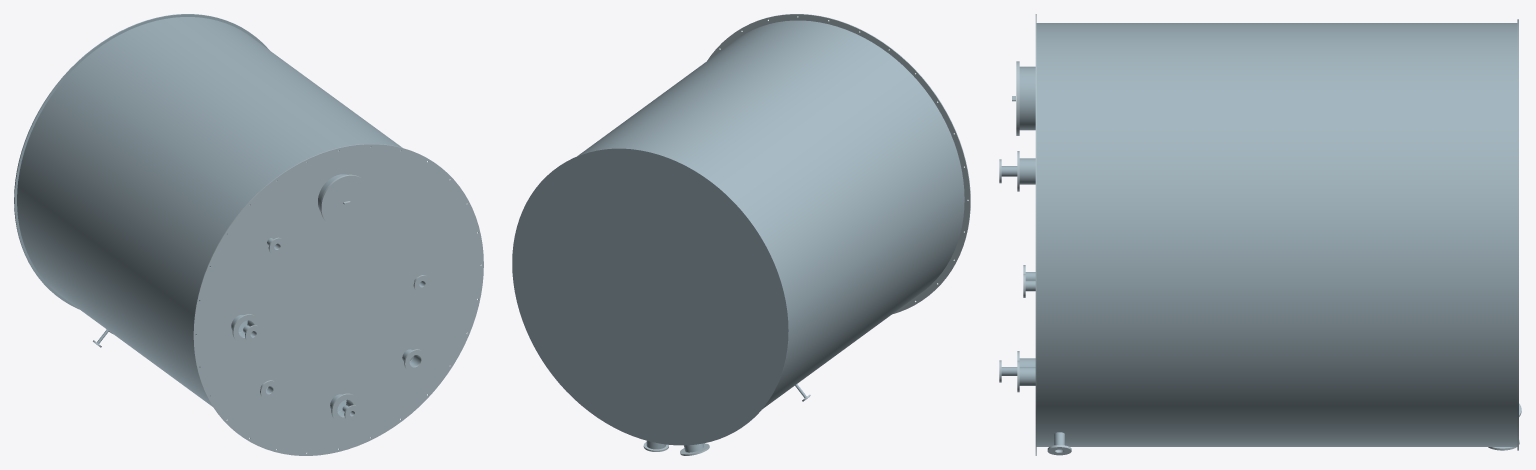
3 renders of one model, left to right at view 1: azimuth 30°, elevation 25°; view 2: azimuth 150°, elevation 25°; view 3: azimuth 270°, elevation 25°, orthographic. The views are drawn at different scales.
Visible parts, largest first — view 1: 本体_钢壳, 盖面_开孔盖板, 盖面_h盖, 本体_底板; view 2: 本体_钢壳, 本体_底板, 盖面_开孔盖板; view 3: 本体_钢壳, 接口_h接管, 盖面_开孔盖板, 本体_底板.
Boxes of the visible parts, left/top/right/bottom form: 本体_钢壳: left=17, top=17, right=413, bottom=411; 盖面_开孔盖板: left=193, top=144, right=483, bottom=455; 盖面_h盖: left=321, top=175, right=370, bottom=228; 本体_底板: left=14, top=14, right=269, bottom=309; 本体_钢壳: left=578, top=20, right=964, bottom=409; 本体_底板: left=512, top=148, right=788, bottom=445; 盖面_开孔盖板: left=707, top=14, right=970, bottom=314; 本体_钢壳: left=1036, top=23, right=1517, bottom=446; 接口_h接管: left=1019, top=66, right=1035, bottom=130; 盖面_开孔盖板: left=1035, top=14, right=1036, bottom=455; 本体_底板: left=1517, top=19, right=1518, bottom=450.
Bounding box in the file's own units: 3.67 × 3.74 × 4.33.
